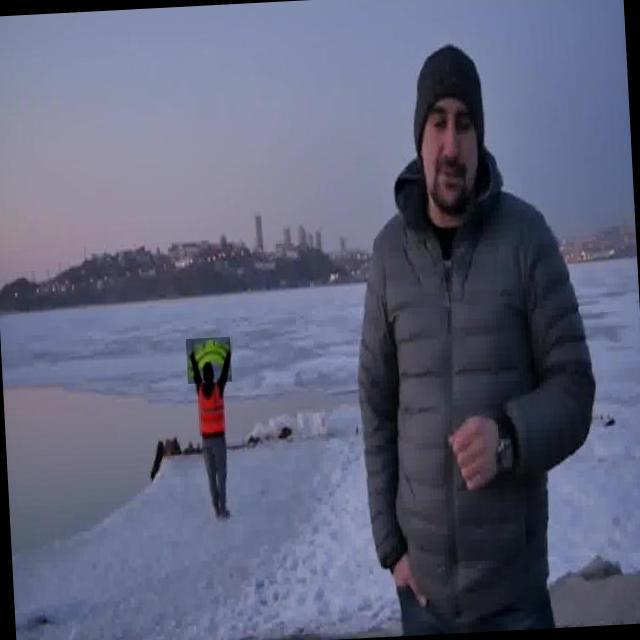Person: (335, 14, 607, 640), (160, 299, 256, 538)
Safety Vest: (186, 337, 232, 384), (197, 380, 226, 437)
bare-arms: (445, 409, 521, 498), (376, 542, 436, 616)
no-helmet: (409, 43, 483, 118)
no-vest: (356, 150, 593, 623)
